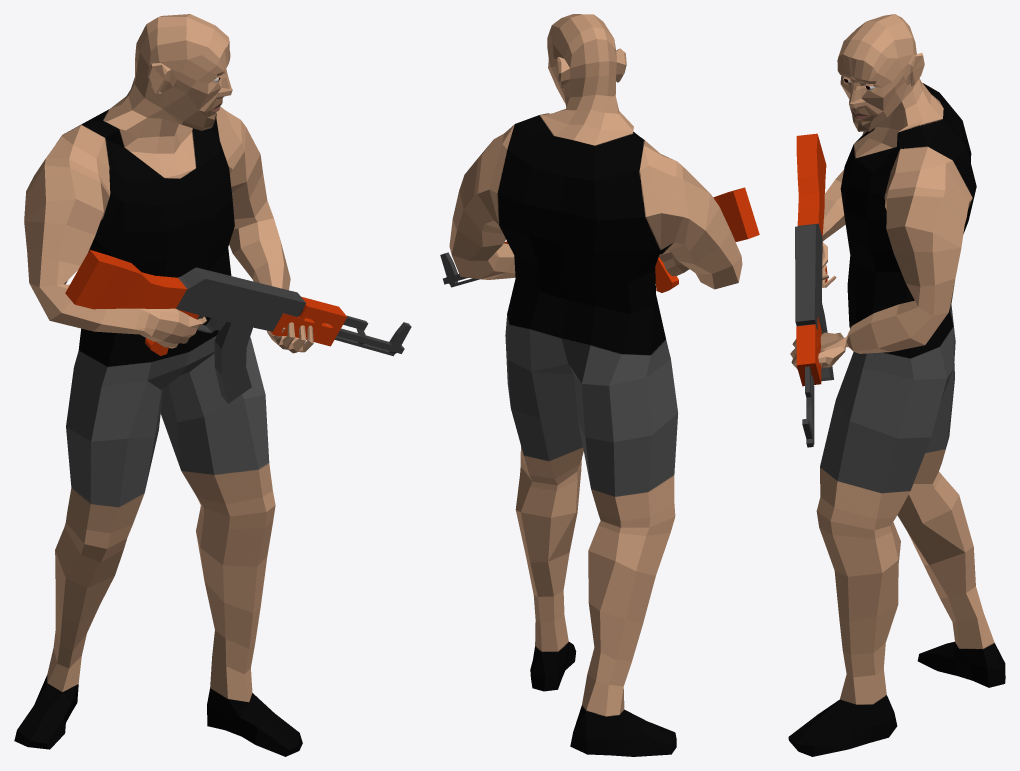
File: PlayerIdle(146).obj
The picture shows the model from 3 angles, left to right: view 1: azimuth 30°, elevation 25°; view 2: azimuth 150°, elevation 25°; view 3: azimuth 270°, elevation 25°; orthographic projection. The views are drawn at different scales.
Visible parts, largest first — view 1: Plane002, Object001; view 2: Plane002, Object001; view 3: Plane002, Object001.
Part boxes in pixels (x1=…): Plane002: x1=14, y1=14, x2=329, y2=756; Object001: x1=65, y1=250, x2=411, y2=403; Plane002: x1=449, y1=14, x2=742, y2=756; Object001: x1=440, y1=187, x2=759, y2=292; Plane002: x1=788, y1=14, x2=1005, y2=756; Object001: x1=795, y1=133, x2=833, y2=447.
Size of the model in its own units: 893 by 1790 by 505.
